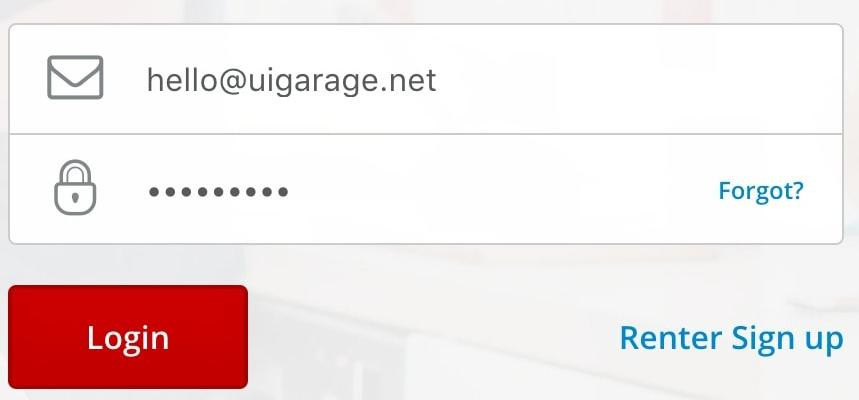button: (7, 283, 249, 390)
field: (4, 131, 846, 246), (7, 22, 844, 137)
